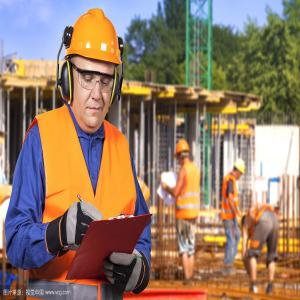yellow: (66, 13, 123, 131), (175, 137, 191, 165), (232, 157, 246, 179)
